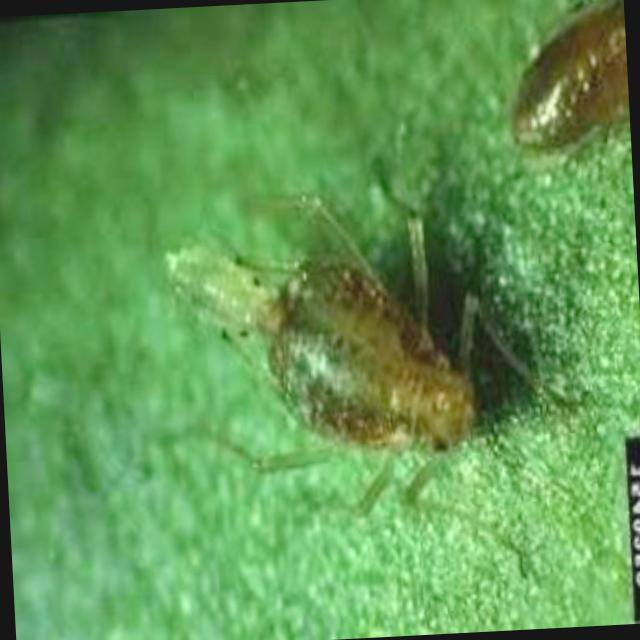Green peach aphid: (135, 127, 584, 598), (475, 0, 634, 214)
